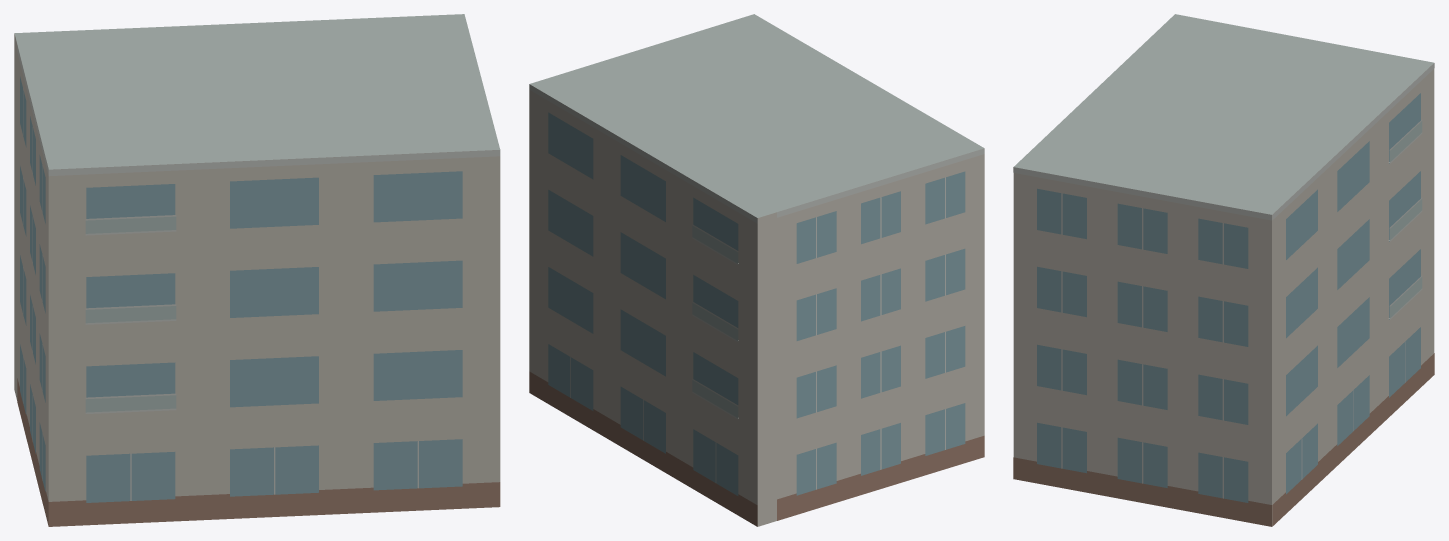
Rendered from survey-upis-32669290.glb.
The picture shows the model from 3 angles, left to right: view 1: azimuth 30°, elevation 25°; view 2: azimuth 150°, elevation 25°; view 3: azimuth 270°, elevation 25°; orthographic projection. The views are drawn at different scales.
Parts seen in each view (by area): view 1: survey-upis-32669290.tmp; view 2: survey-upis-32669290.tmp; view 3: survey-upis-32669290.tmp.
Boxes of the visible parts, x1=… form: survey-upis-32669290.tmp: x1=14, y1=14, x2=500, y2=526; survey-upis-32669290.tmp: x1=529, y1=14, x2=984, y2=526; survey-upis-32669290.tmp: x1=1013, y1=14, x2=1434, y2=526.
Size of the model in its own units: 18.37 by 13.3 by 16.27.
